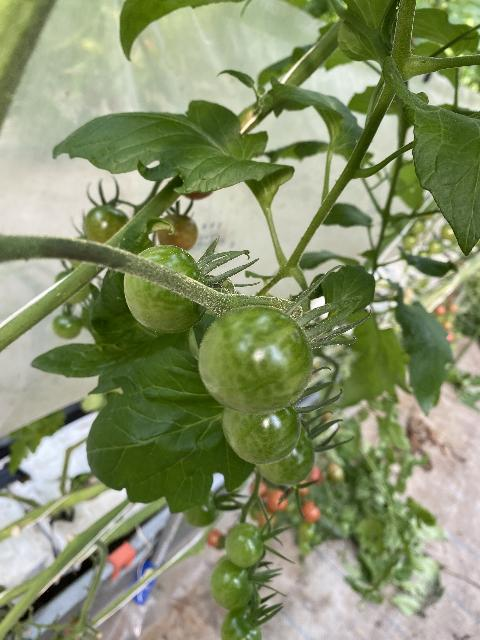l_green: (199, 306, 315, 416), (123, 245, 207, 334), (220, 404, 303, 466), (254, 425, 315, 485), (211, 553, 254, 610), (226, 522, 265, 566), (84, 205, 129, 243), (219, 606, 262, 639), (184, 492, 222, 527)
